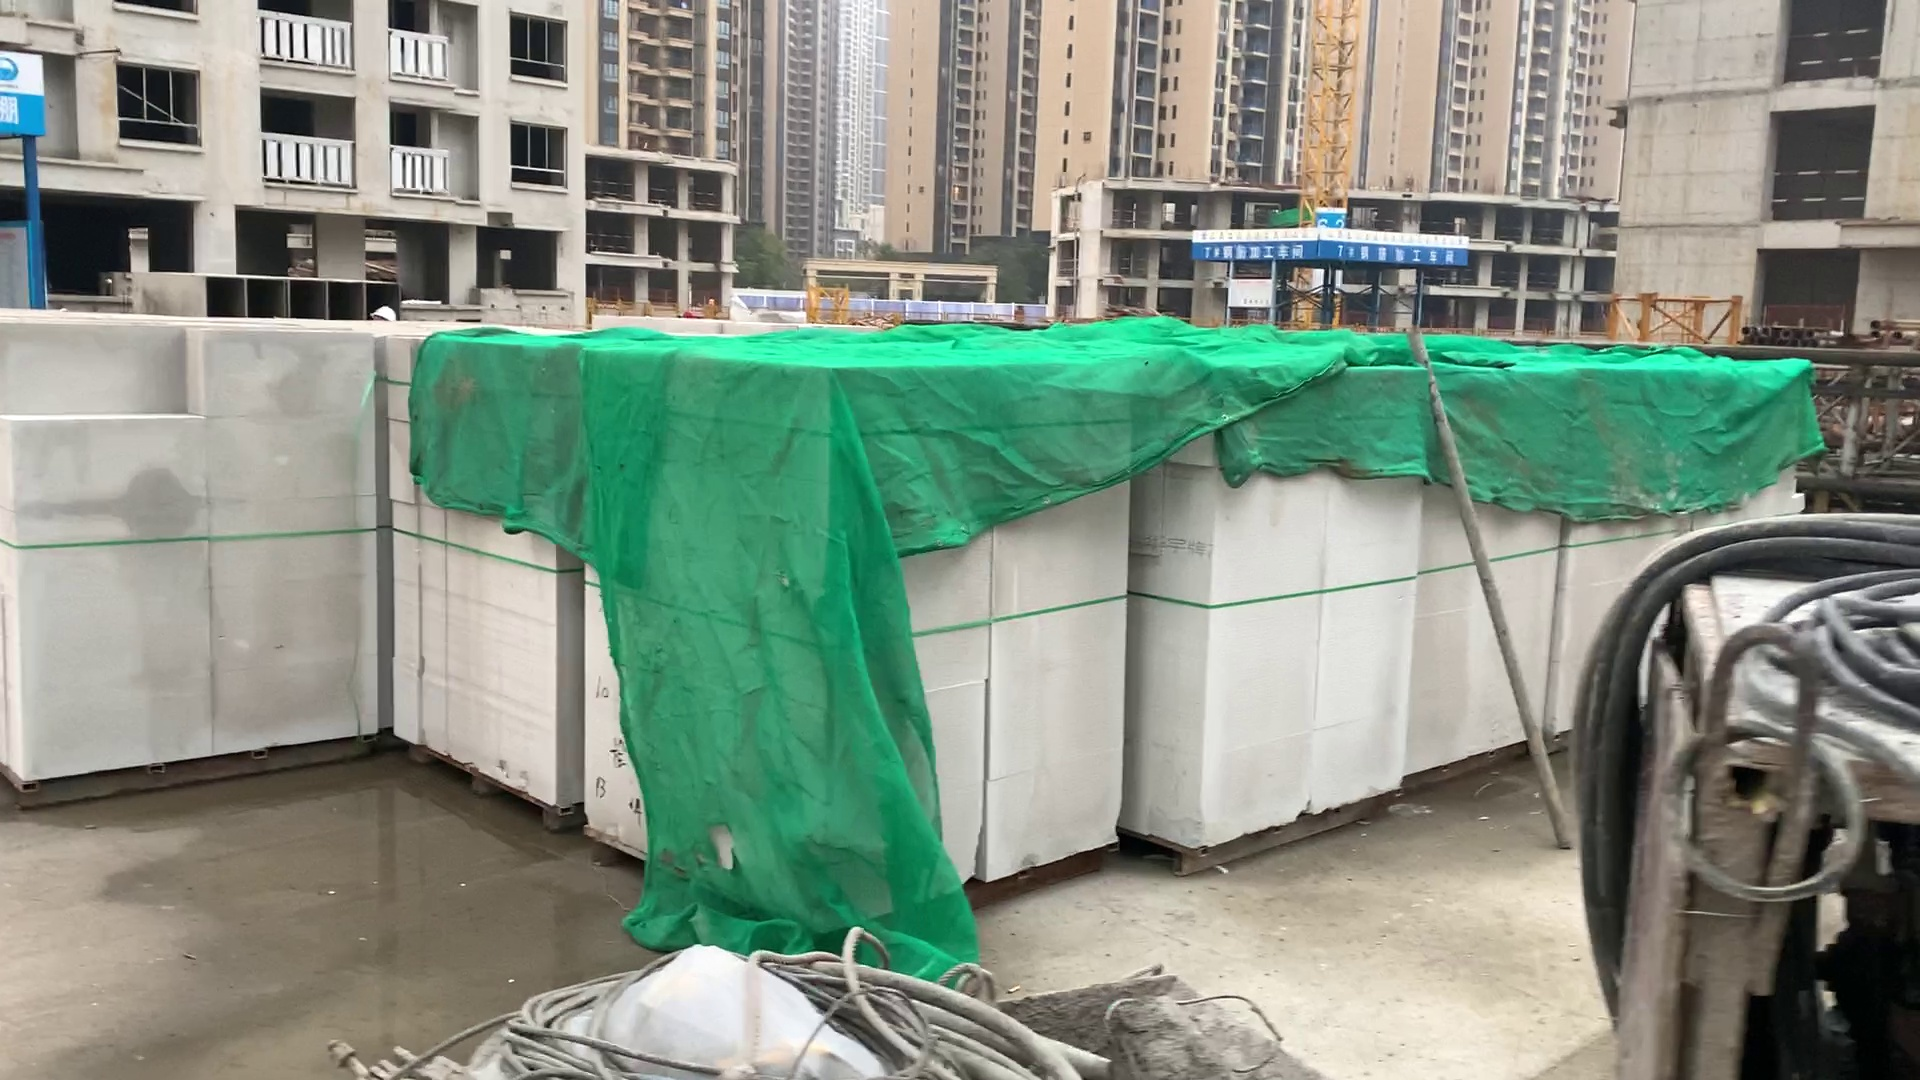brickwork: (4, 323, 384, 769), (1133, 361, 1403, 845), (588, 349, 816, 916), (386, 328, 568, 806), (1420, 372, 1552, 779), (1565, 369, 1679, 765)
